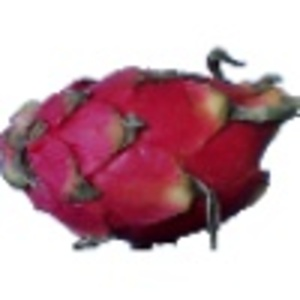pitaia: (1, 48, 300, 252)
